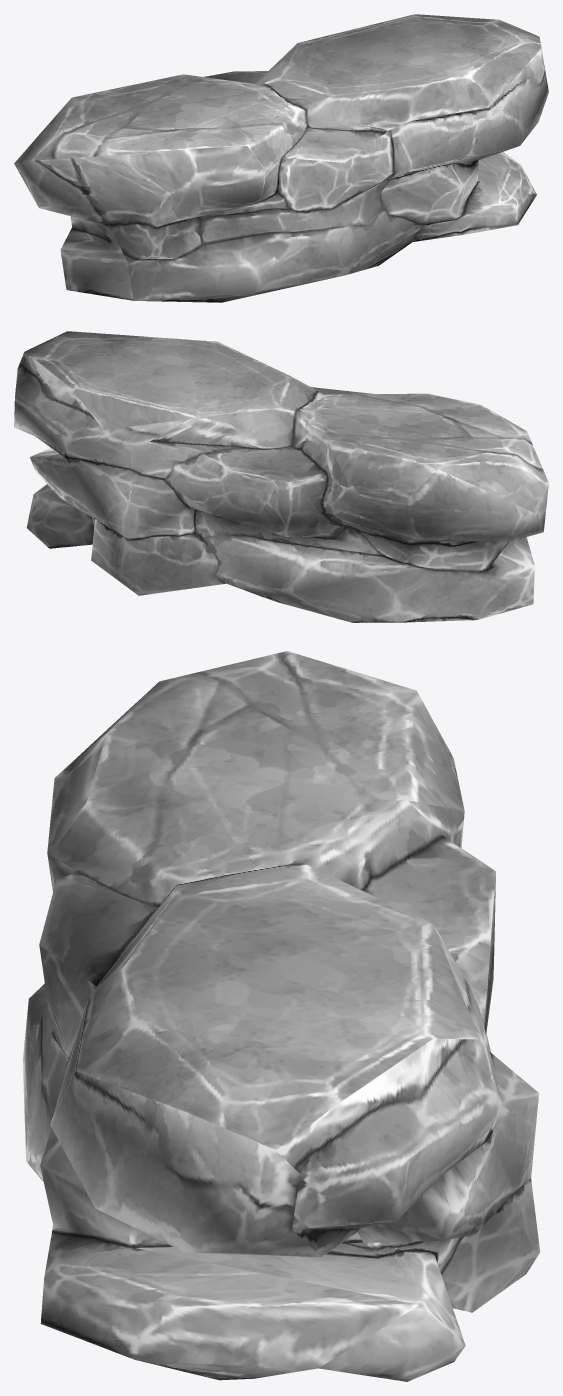
Rendered from SM_Galets_L01.fbx.
The picture shows the model from 3 angles, top to bottom: view 1: azimuth 30°, elevation 25°; view 2: azimuth 150°, elevation 25°; view 3: azimuth 270°, elevation 25°; orthographic projection. The views are drawn at different scales.
Parts seen in each view (by area): view 1: SM_Galets_L01; view 2: SM_Galets_L01; view 3: SM_Galets_L01.
Part boxes in pixels (x1,y1,x2,y2): SM_Galets_L01: [14, 14, 548, 302]; SM_Galets_L01: [14, 331, 548, 622]; SM_Galets_L01: [22, 651, 539, 1381].
Size of the model in its own units: 188 by 58.3 by 82.94.
